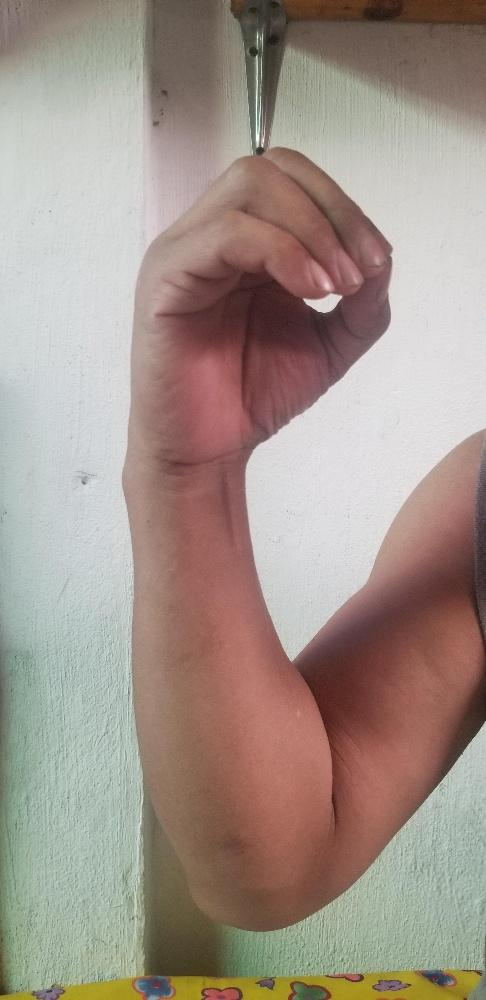o: (129, 143, 394, 451)
